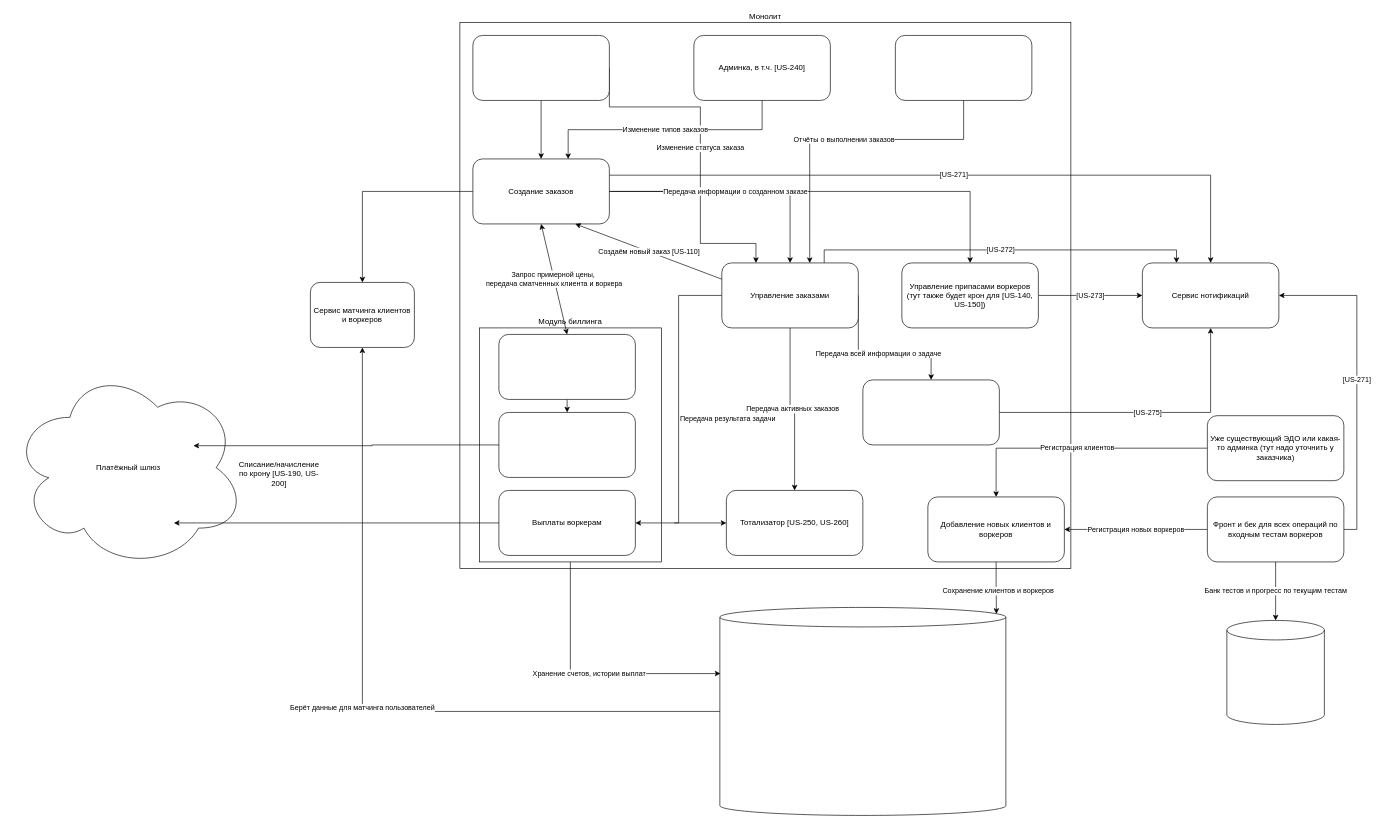
This 1382x840 diagram has some shape labels left out. Here are the shapes that lost their labels. From the top down, the centre of each, then its label:
the point at 540,67: Фронтенд клиентов
the point at 963,67: Фронтенд воркеров
the point at 566,366: Вычисление цены услуги (в т.ч. применение скидок)
the point at 930,412: Отдел качества
the point at 566,444: Выставление счетов клиенту
the point at 1275,672: Прогресс по текущим тестам шардируем по ФИО (и др. данным) заявок
the point at 862,711: База монолита
